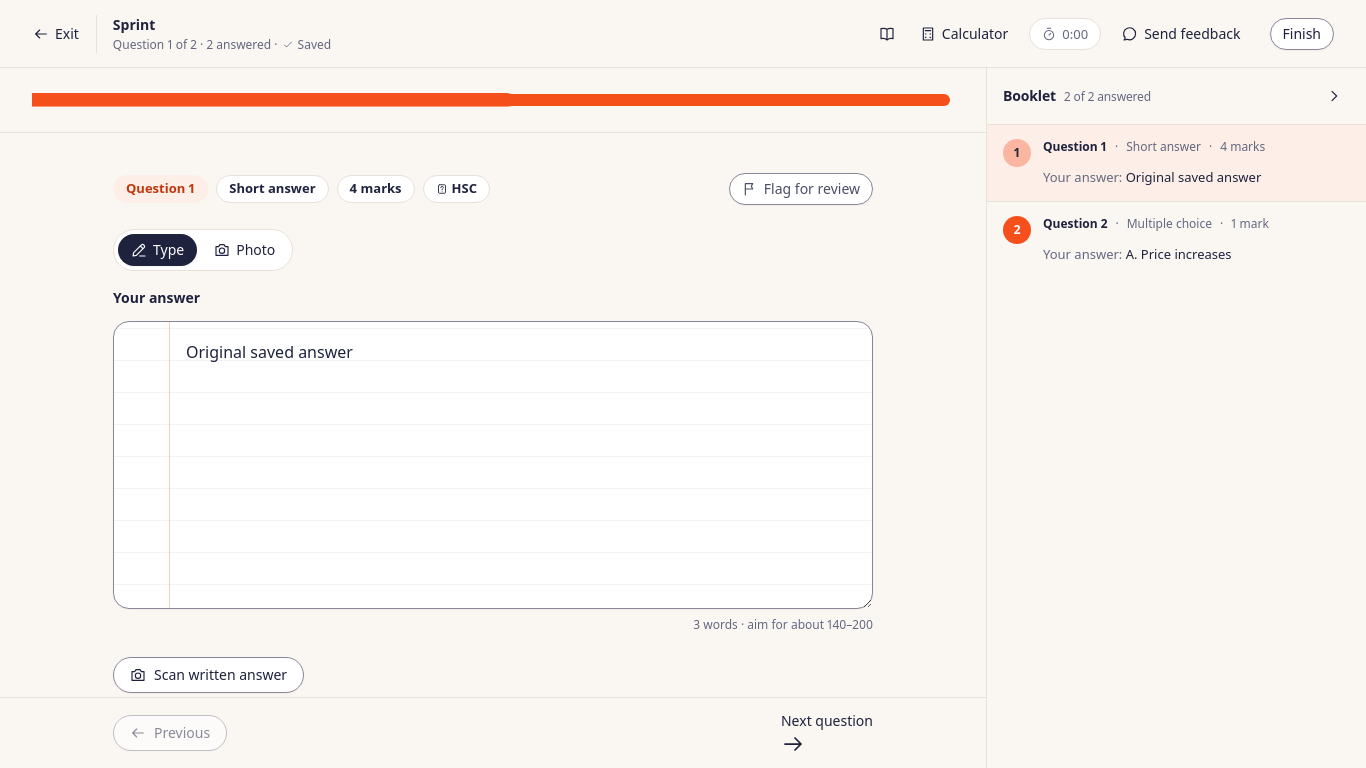
Test case: saves before background marking, keeps a resumed mark editable and hides failures
Replace the text in the text box labelled "Your answer" with "Edited final answer" at [493, 465], box [113,321,873,609]
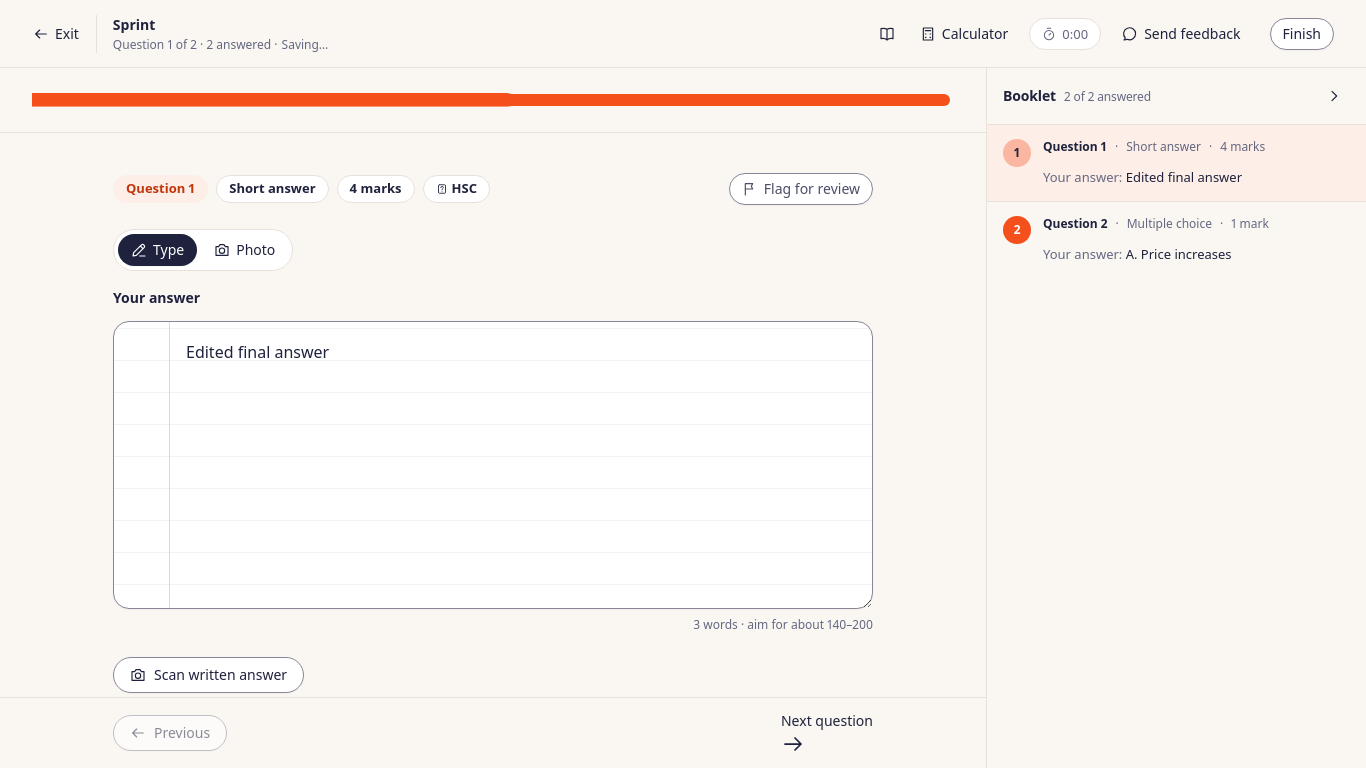
Click the button with aria-label "Question 2:" at [1075, 224], box [1043,216,1108,232]
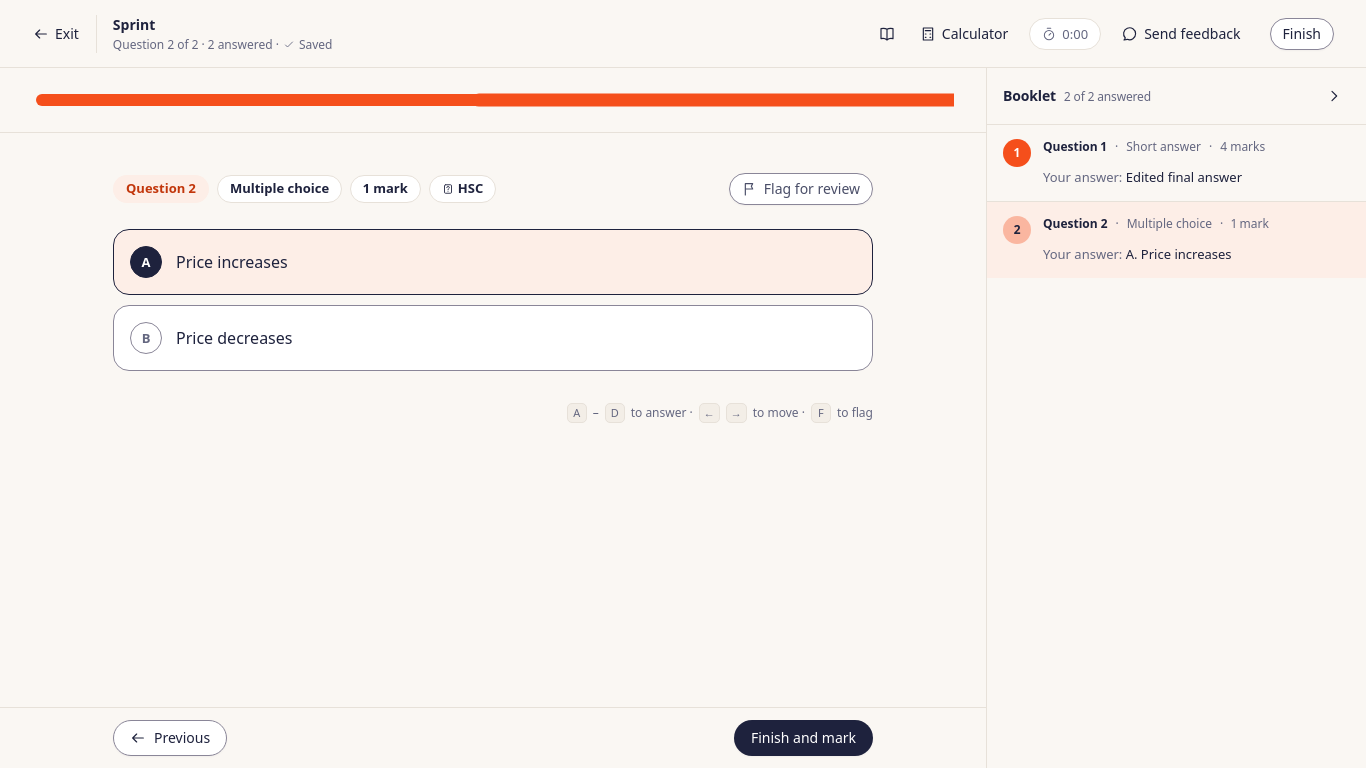
Click the button with aria-label "Question 1:" at [1075, 147], box [1043,139,1107,155]
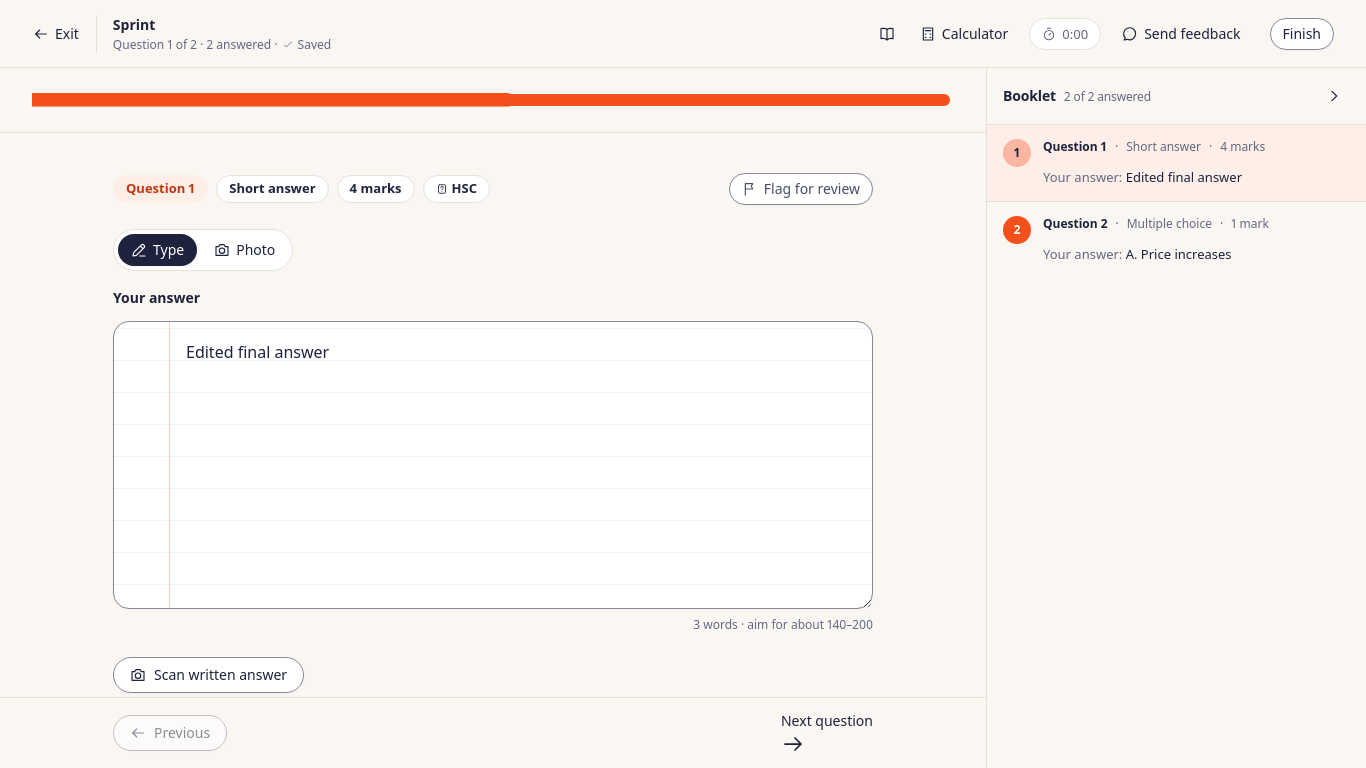
Now the text box labelled "Your answer" holds "Edited final answer", box [113,321,873,609]
